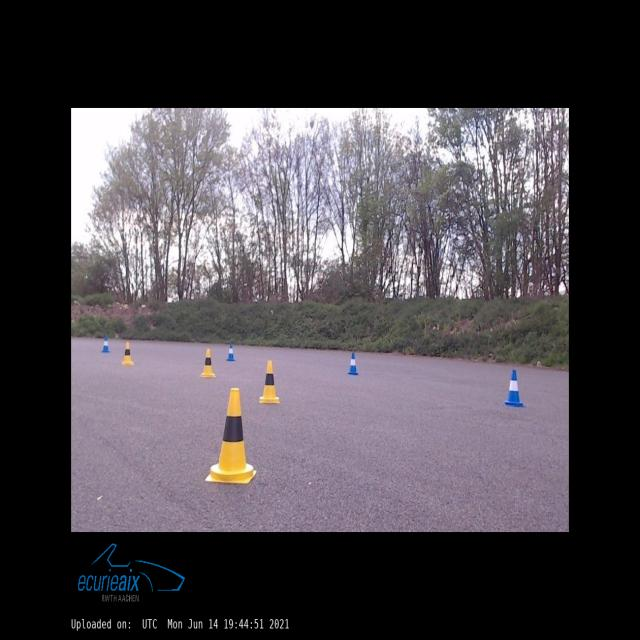blue_cone: (503, 370, 523, 407), (348, 353, 358, 375), (102, 337, 110, 352), (227, 344, 234, 361)
yellow_cone: (206, 388, 256, 483), (260, 361, 280, 403), (201, 349, 215, 377), (122, 342, 133, 365)
